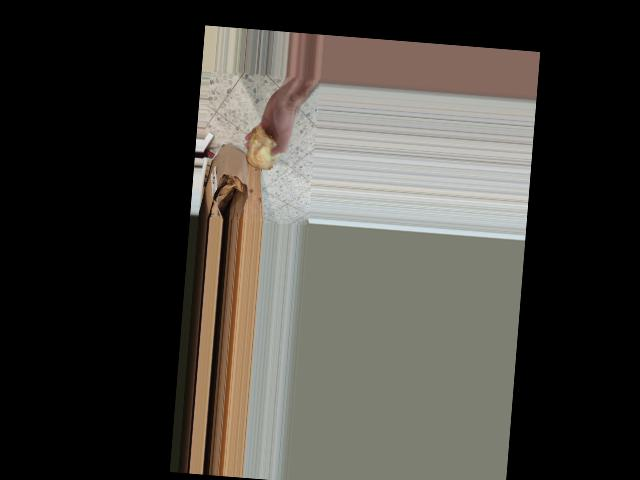onion: (244, 122, 283, 173)
